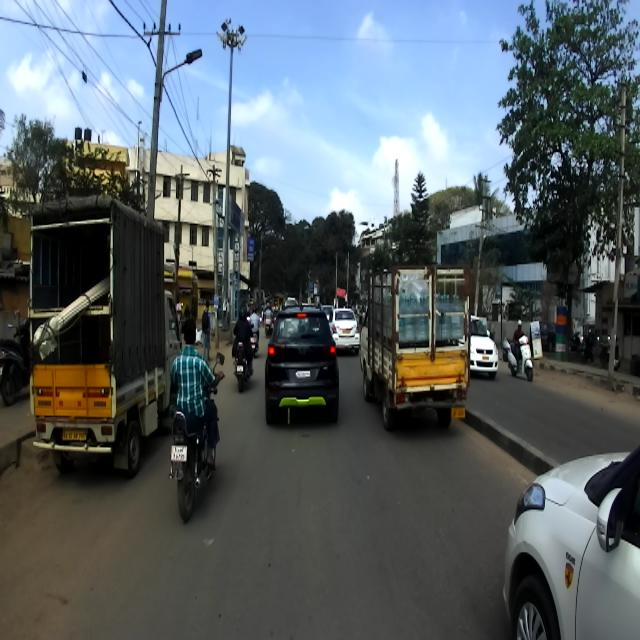car ahead at: (262, 303, 342, 427)
motorcycle ahead at: (166, 403, 226, 510)
truck ahead at: (18, 200, 150, 466), (365, 258, 470, 424)
